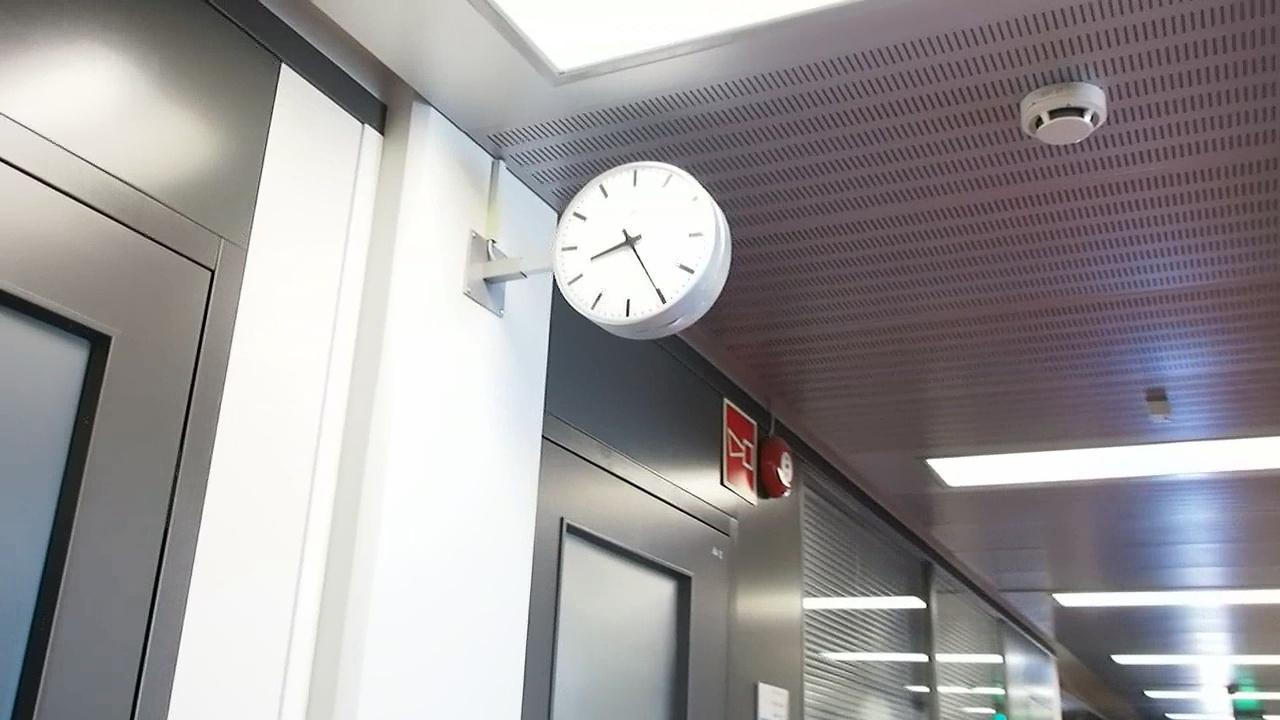clock: (547, 157, 735, 341)
